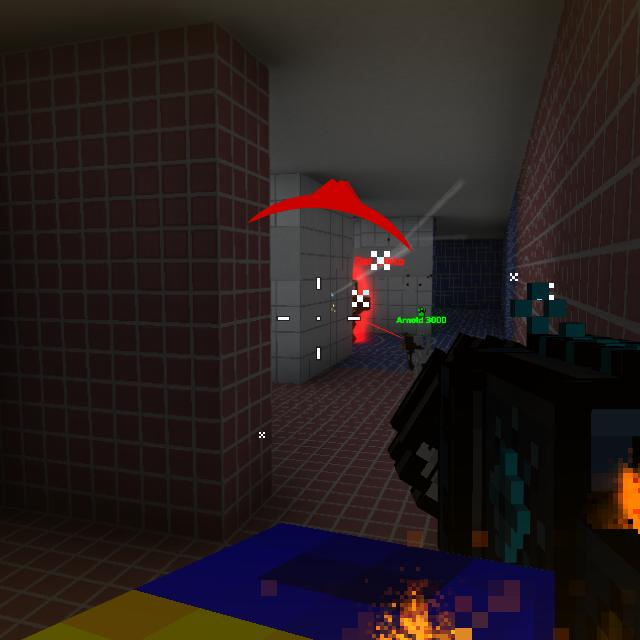Enemy: (351, 278, 370, 347)
